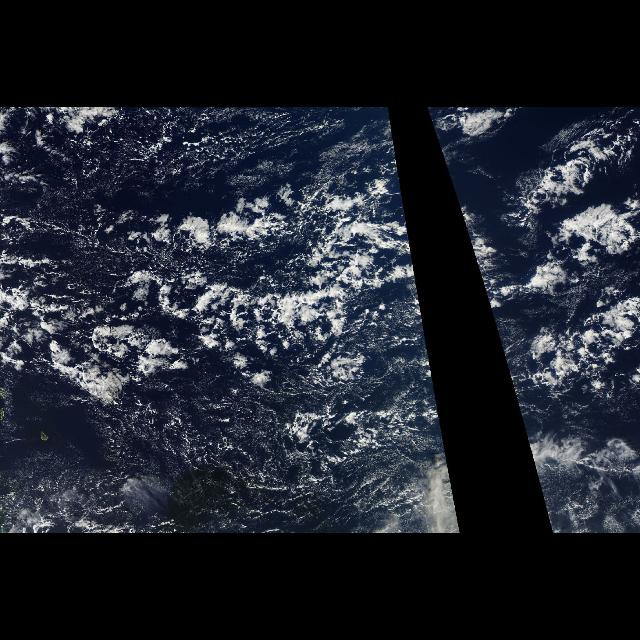Fish: (116, 238, 428, 360)
Gravel: (3, 107, 461, 531), (427, 109, 638, 531)
Sugar: (85, 399, 275, 533)
